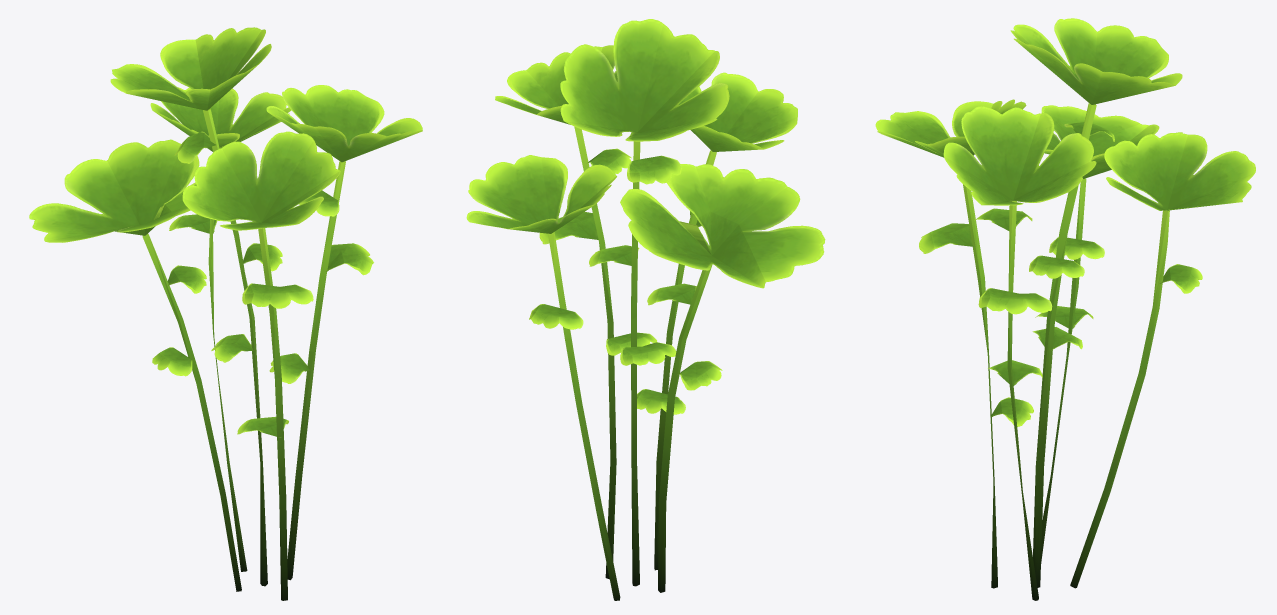
The model's file is Clover_2.glb.
3 renders of one model, left to right at view 1: azimuth 30°, elevation 25°; view 2: azimuth 150°, elevation 25°; view 3: azimuth 270°, elevation 25°, orthographic. The views are drawn at different scales.
Bounding box in the file's own units: 0.8512 × 1.26 × 0.8367.
Materials: 1 (1 with a texture image).
